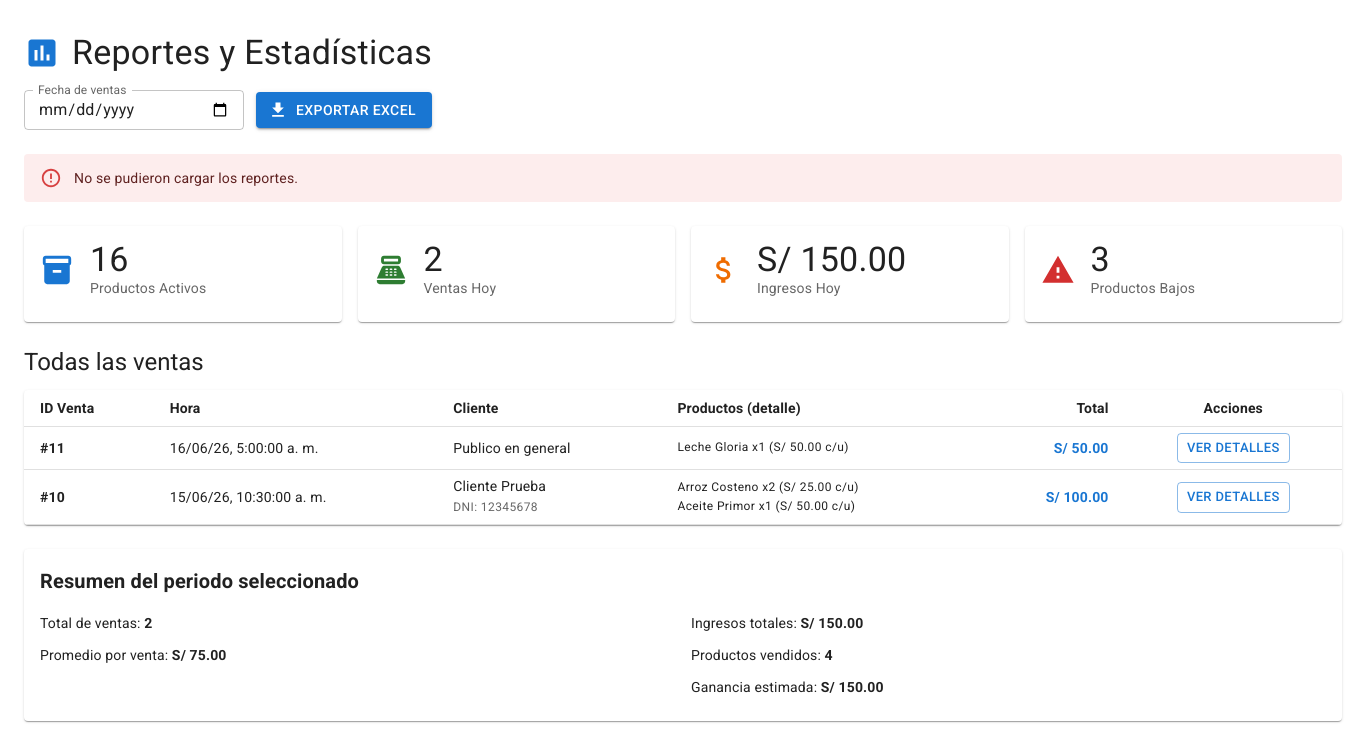
it: ReportesPage ventas › filtra ventas por fecha y actualiza el resumen del dia
Expected: the text "#10" is shown, [24, 470, 154, 525]
Type "2026-06-15" into the date field labelled "Fecha de ventas" at (134, 110), box [24, 90, 244, 130]
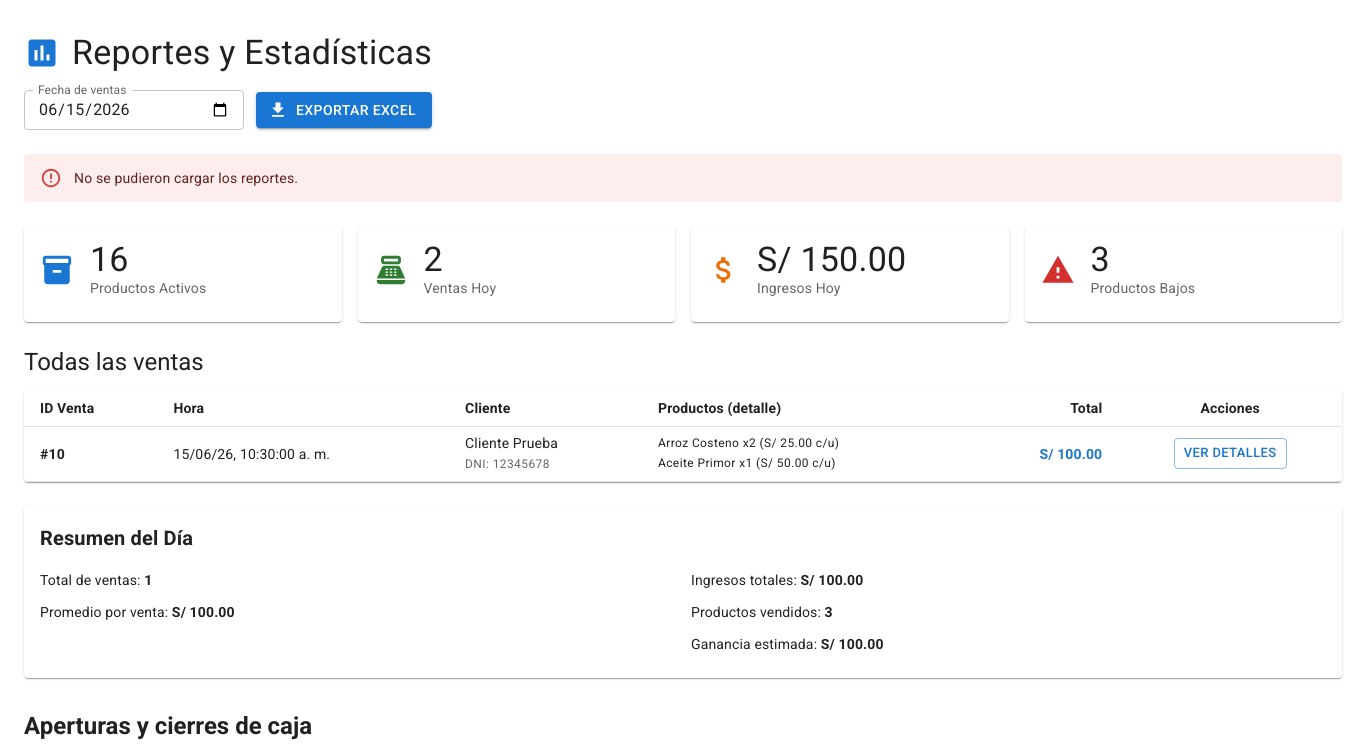
Expected: the text "#10" is shown, [24, 426, 157, 481]
Expected: the text "#11" is gone
Expected: the heading "Resumen del Día" is shown, [40, 526, 193, 550]
